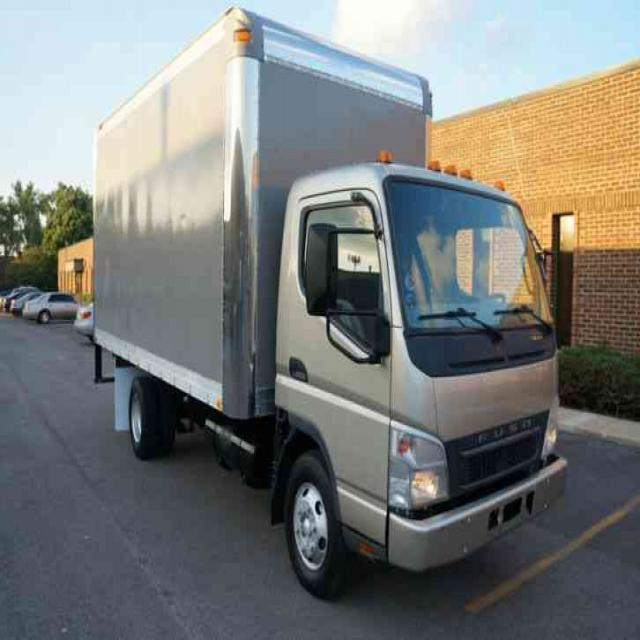Truck: (93, 7, 567, 594)
